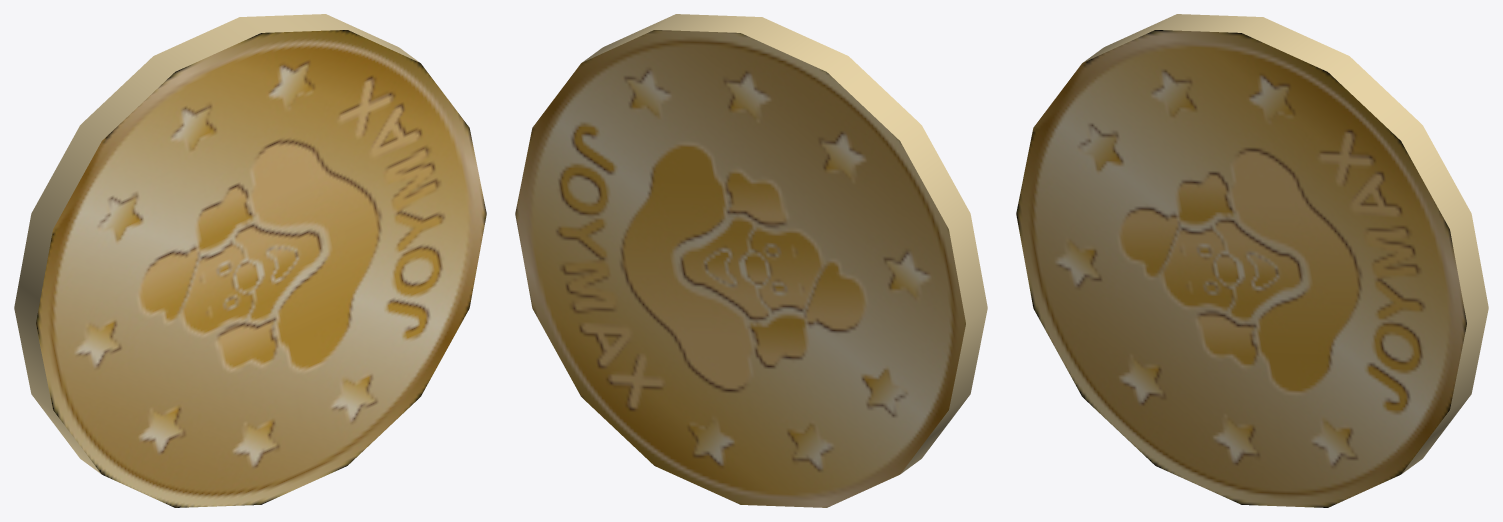
File: jinbi-new.glb
3 views of the same model, side by side, from view 1: azimuth 30°, elevation 25°; view 2: azimuth 150°, elevation 25°; view 3: azimuth 330°, elevation 25° (orthographic).
Parts seen in each view (by area): view 1: jinbi; view 2: jinbi; view 3: jinbi.
Boxes of the visible parts, box(x1,y1,x2,y2) form: jinbi: box(14, 14, 486, 507); jinbi: box(515, 14, 987, 507); jinbi: box(1016, 14, 1488, 507).
Size of the model in its own units: 2.4 by 2.4 by 0.2.
2 materials, 1 textured.
